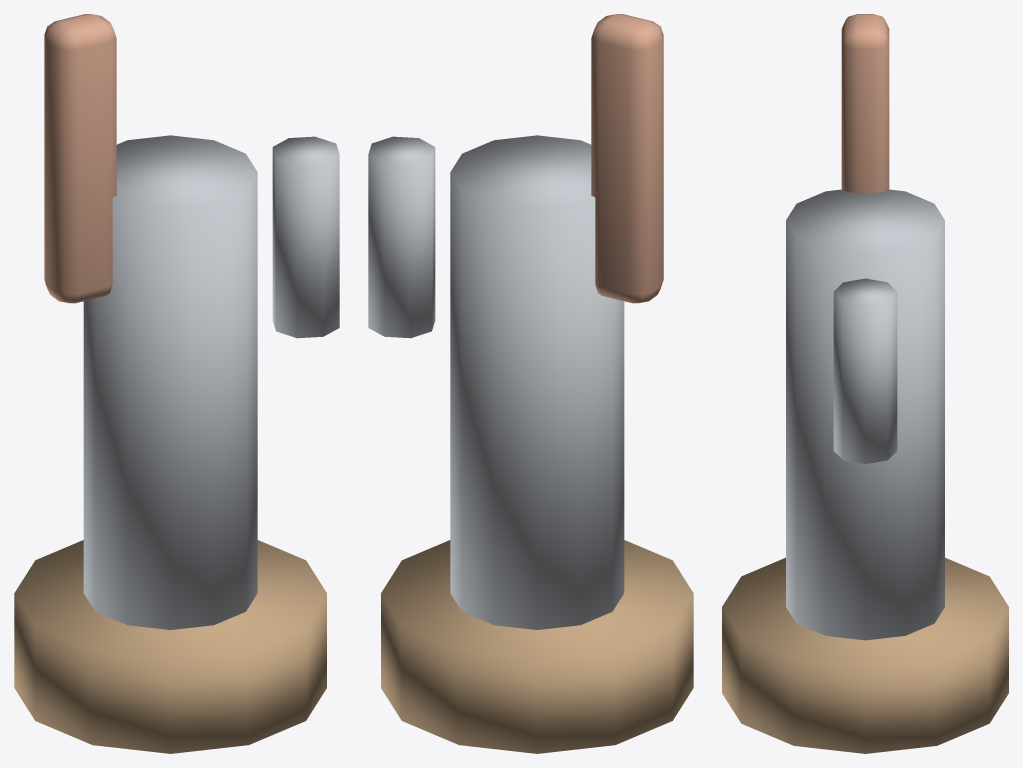
The model's file is cozy_water_pump_A.glb.
The picture shows the model from 3 angles, left to right: view 1: azimuth 30°, elevation 25°; view 2: azimuth 150°, elevation 25°; view 3: azimuth 270°, elevation 25°; orthographic projection. The views are drawn at different scales.
Parts seen in each view (by area): view 1: Body, Base, Handle, Spout; view 2: Body, Base, Handle, Spout; view 3: Body, Base, Spout, Handle.
Boxes of the visible parts, x1,y1,x2,y2 form: Body: (83, 135, 257, 629); Base: (14, 540, 326, 753); Handle: (44, 14, 116, 303); Spout: (272, 136, 339, 338); Body: (450, 135, 624, 629); Base: (381, 540, 693, 753); Handle: (591, 14, 663, 303); Spout: (368, 136, 435, 338); Body: (786, 189, 944, 640); Base: (722, 557, 1008, 753); Spout: (833, 278, 897, 464); Handle: (841, 14, 889, 193).
Size of the model in its own units: 0.4 by 0.875 by 0.36.
